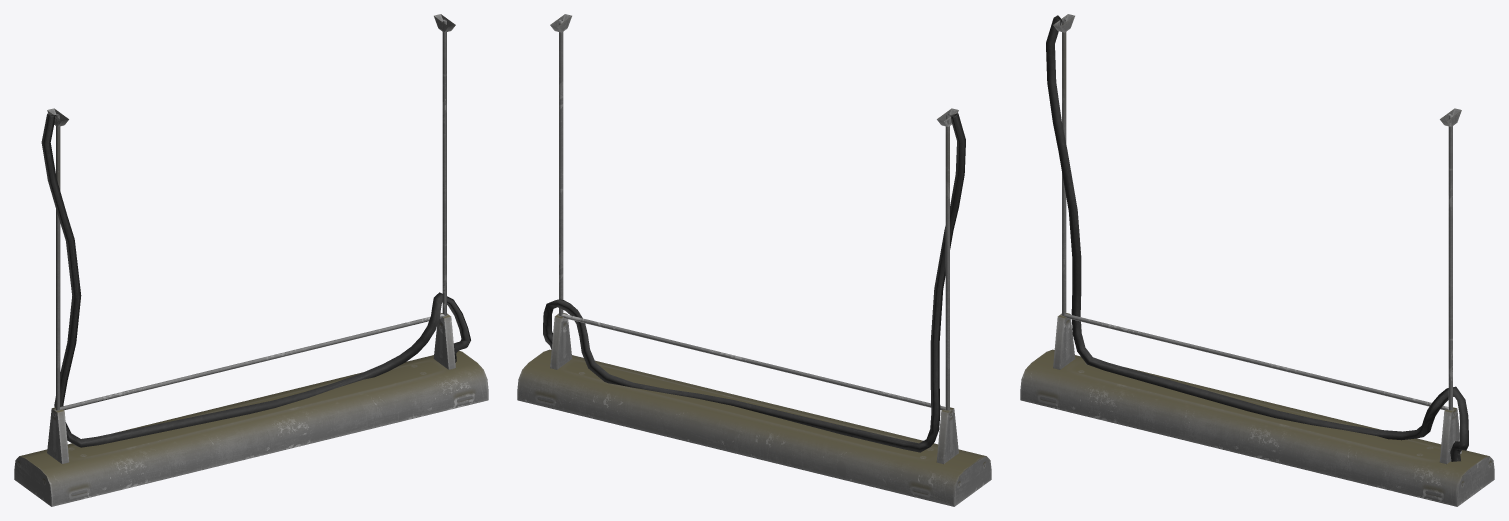
The model's file is SM_LampCeilingA_01.FBX.
3 renders of one model, left to right at view 1: azimuth 30°, elevation 25°; view 2: azimuth 150°, elevation 25°; view 3: azimuth 330°, elevation 25°, orthographic.
Parts seen in each view (by area): view 1: SM_LampCeilingA_01_LOD0; view 2: SM_LampCeilingA_01_LOD0; view 3: SM_LampCeilingA_01_LOD0.
Boxes of the visible parts, left/top/right/bottom form: SM_LampCeilingA_01_LOD0: left=14, top=14, right=488, bottom=506; SM_LampCeilingA_01_LOD0: left=517, top=14, right=991, bottom=506; SM_LampCeilingA_01_LOD0: left=1020, top=14, right=1494, bottom=506.
Size of the model in its own units: 200 by 29.56 by 168.
